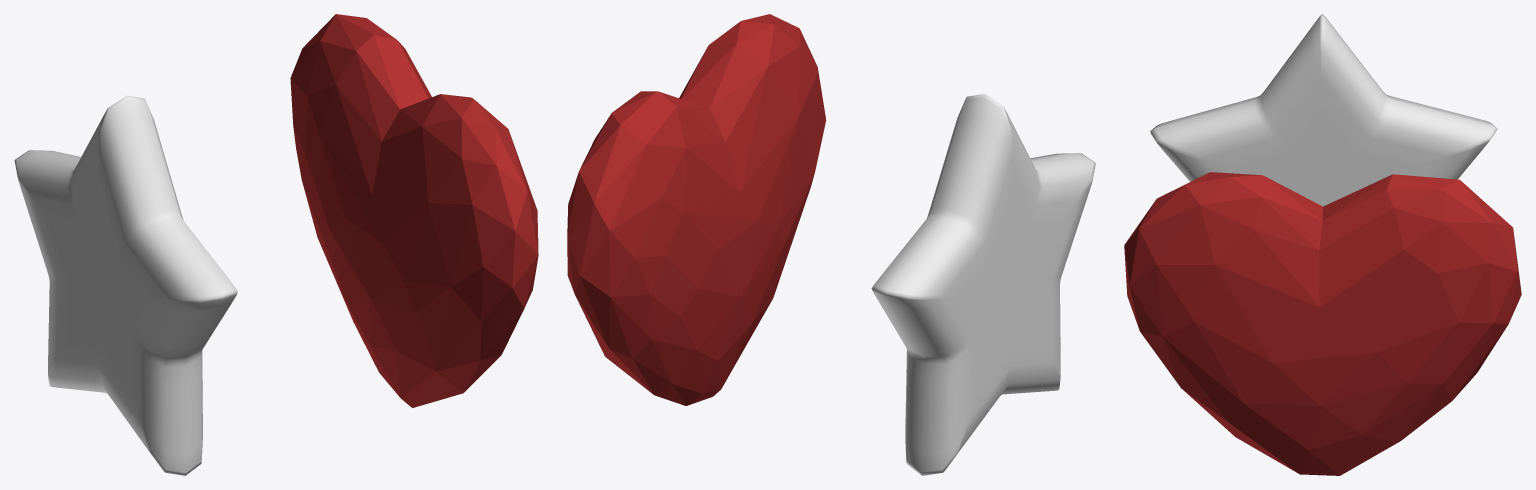
Rendered from SprinkleTEx.fbx.
3 renders of one model, left to right at view 1: azimuth 30°, elevation 25°; view 2: azimuth 150°, elevation 25°; view 3: azimuth 270°, elevation 25°, orthographic. The views are drawn at different scales.
Visible parts, largest first — view 1: Love, Cylinder.007; view 2: Love, Cylinder.007; view 3: Love, Cylinder.007.
Boxes of the visible parts, <box> form: Love: <box>290,14,538,407</box>; Cylinder.007: <box>14,95,237,475</box>; Love: <box>567,14,826,405</box>; Cylinder.007: <box>871,94,1095,475</box>; Love: <box>1124,172,1521,475</box>; Cylinder.007: <box>1150,14,1497,206</box>.
Bounding box in the file's own units: 1.34 × 1.32 × 1.42.
